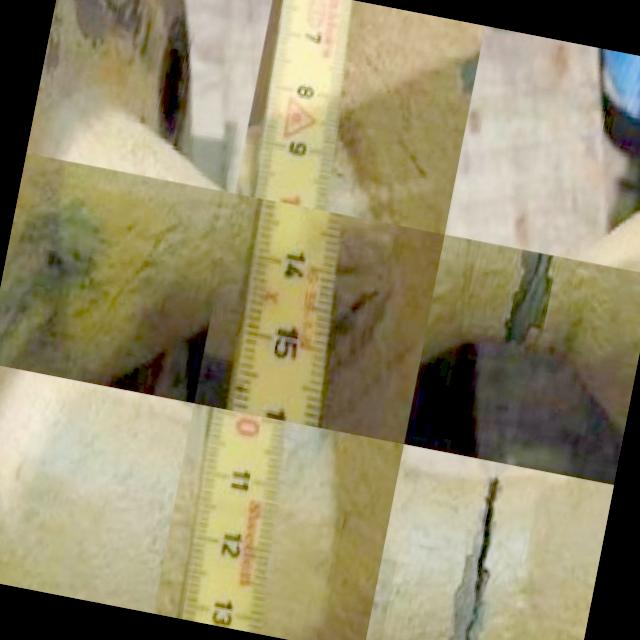crack: (450, 473, 504, 640), (532, 251, 545, 273)
